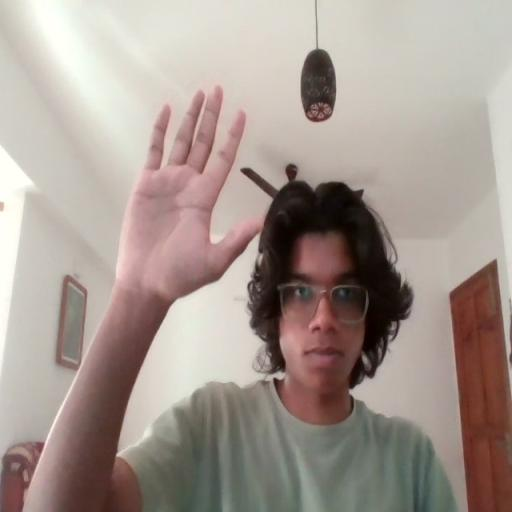Paper: (114, 79, 267, 302)
